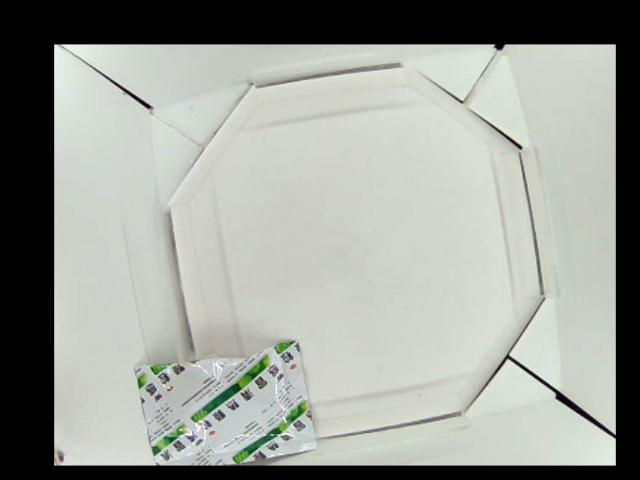Medicine: (134, 340, 317, 465)
